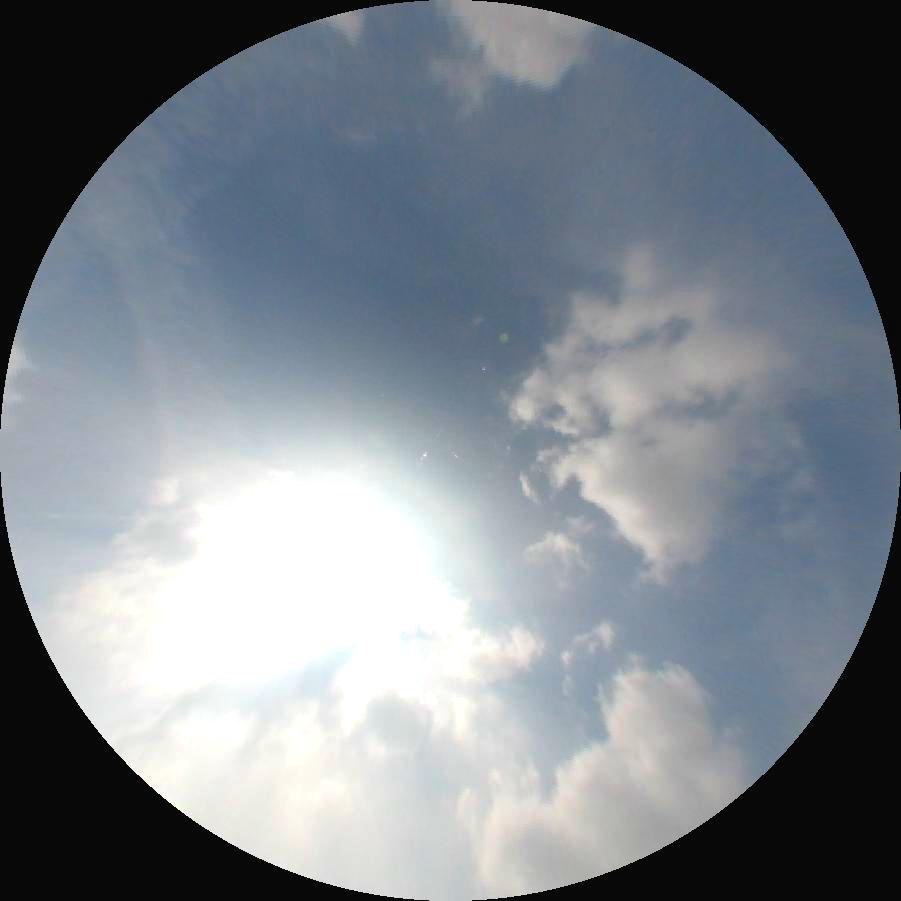sun: (234, 496, 425, 664)
